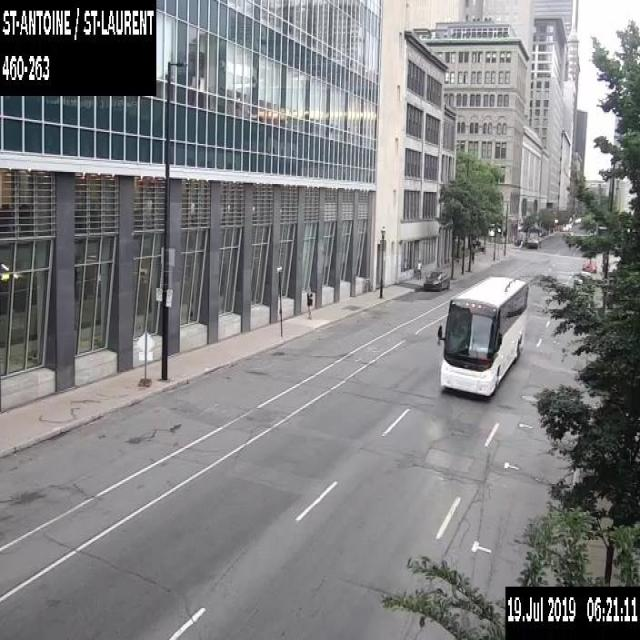bus: (438, 273, 528, 399)
construction: (136, 329, 154, 386), (581, 258, 596, 274)
pedestrian: (306, 288, 312, 319), (416, 257, 422, 280)
vehicle: (422, 268, 449, 289), (526, 234, 538, 247)
